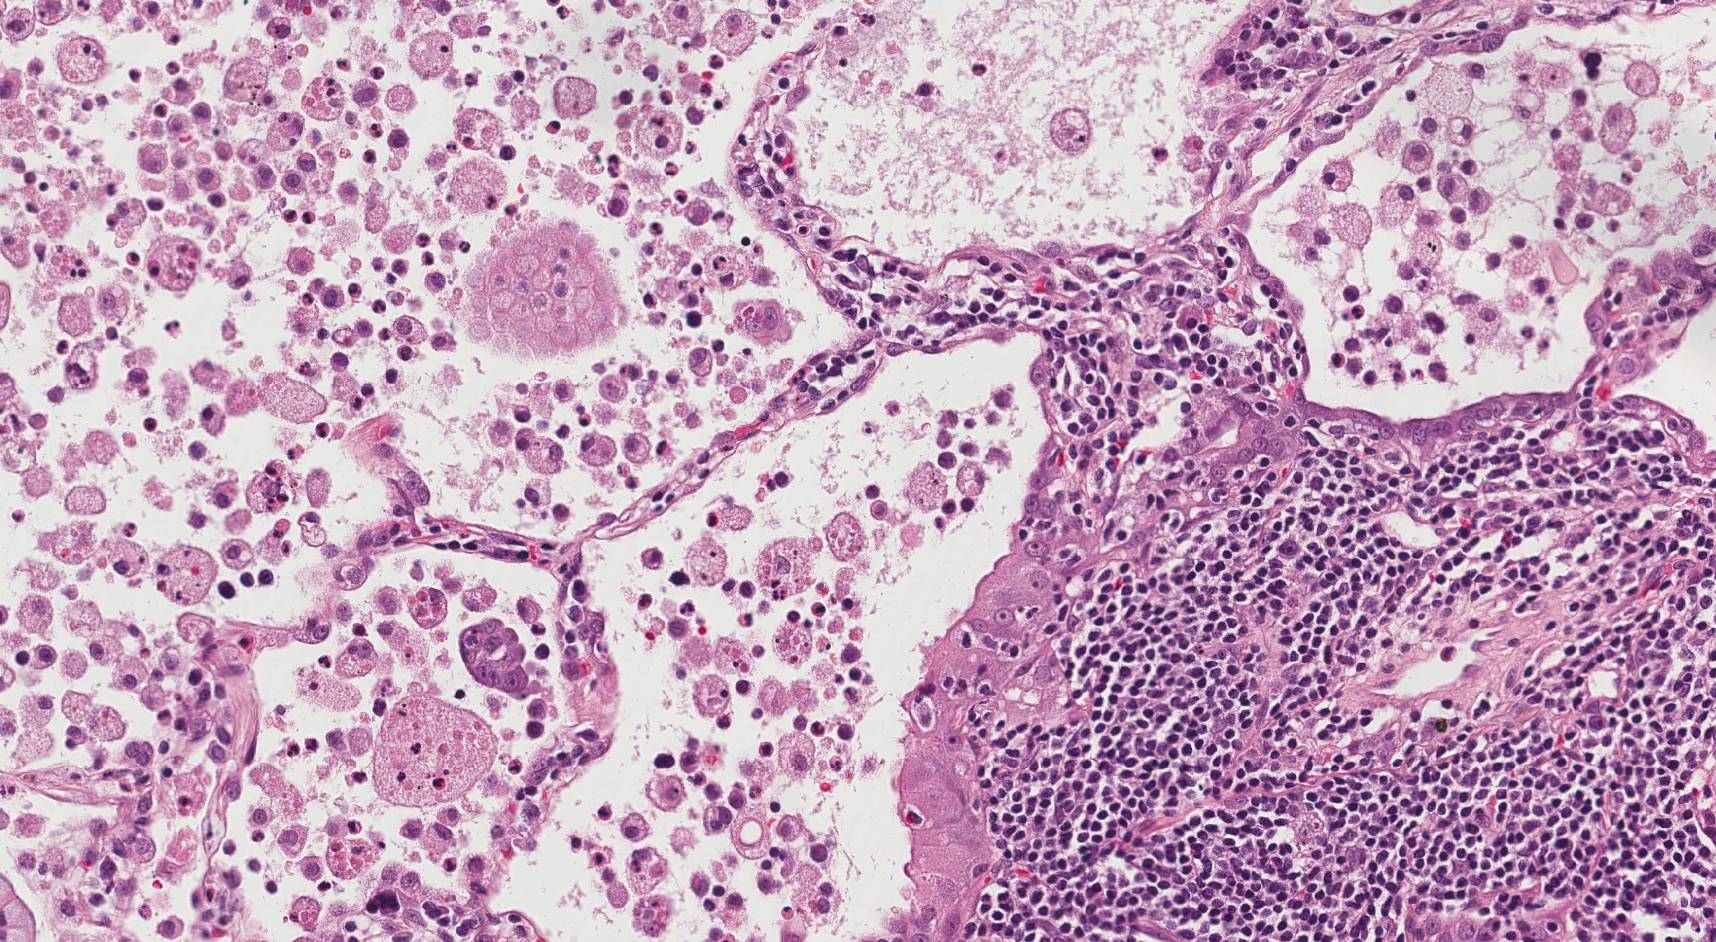stas: (458, 616, 527, 701)
